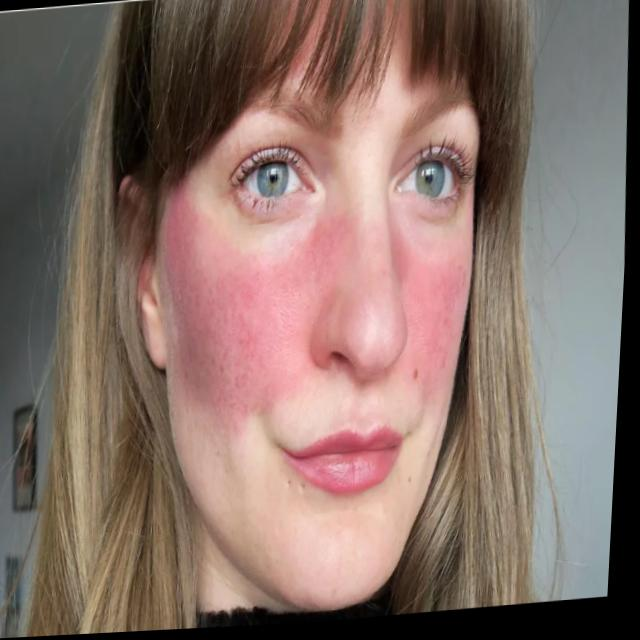skinredness: (172, 244, 312, 433), (407, 249, 477, 399)
